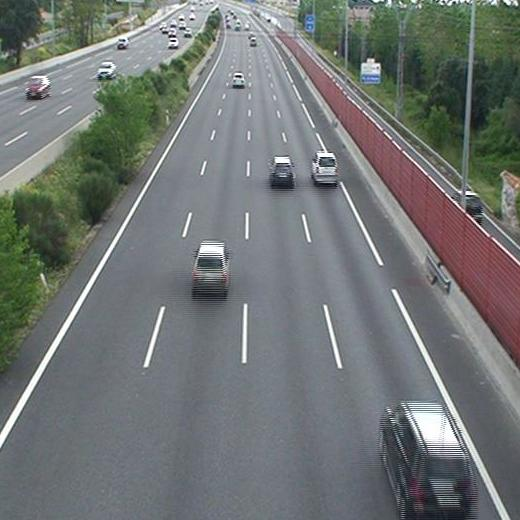car: (380, 406, 474, 520), (192, 242, 229, 292), (311, 153, 337, 183), (271, 158, 293, 185), (232, 72, 245, 86)
